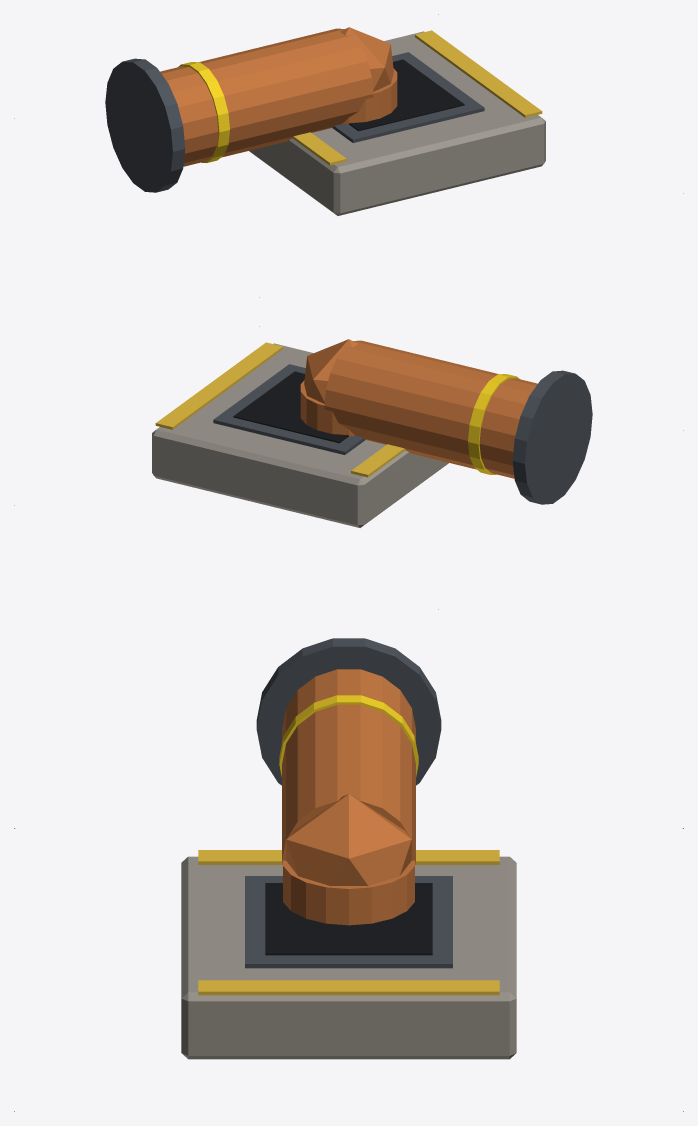
The model's file is tuyau_regard_t1.glb.
3 renders of one model, top to bottom at view 1: azimuth 30°, elevation 25°; view 2: azimuth 150°, elevation 25°; view 3: azimuth 270°, elevation 25°, orthographic. The views are drawn at different scales.
Parts seen in each view (by area): view 1: pieces_cuivre.016, pieces_beton.044, pieces_acier_sombre.044, pieces_jaune.008, pieces_noir.008, pieces_rive_t1.014; view 2: pieces_cuivre.016, pieces_beton.044, pieces_acier_sombre.044, pieces_jaune.008, pieces_noir.008, pieces_rive_t1.014; view 3: pieces_beton.044, pieces_cuivre.016, pieces_acier_sombre.044, pieces_noir.008, pieces_jaune.008, pieces_rive_t1.014.
Part boxes in pixels (bbox=[...]): pieces_cuivre.016: bbox=[160, 27, 397, 166]; pieces_beton.044: bbox=[249, 31, 545, 215]; pieces_acier_sombre.044: bbox=[105, 52, 484, 192]; pieces_jaune.008: bbox=[292, 30, 542, 165]; pieces_noir.008: bbox=[349, 59, 464, 131]; pieces_rive_t1.014: bbox=[178, 62, 229, 162]; pieces_cuivre.016: bbox=[300, 339, 537, 478]; pieces_beton.044: bbox=[152, 343, 448, 527]; pieces_acier_sombre.044: bbox=[213, 364, 592, 504]; pieces_jaune.008: bbox=[155, 342, 405, 477]; pieces_noir.008: bbox=[233, 371, 348, 443]; pieces_rive_t1.014: bbox=[468, 374, 519, 474]; pieces_beton.044: bbox=[181, 856, 516, 1059]; pieces_cuivre.016: bbox=[282, 669, 415, 925]; pieces_acier_sombre.044: bbox=[245, 638, 452, 968]; pieces_noir.008: bbox=[265, 883, 432, 955]; pieces_jaune.008: bbox=[198, 850, 499, 995]; pieces_rive_t1.014: bbox=[279, 695, 418, 776].
Size of the model in its own units: 1 by 0.3159 by 1.
